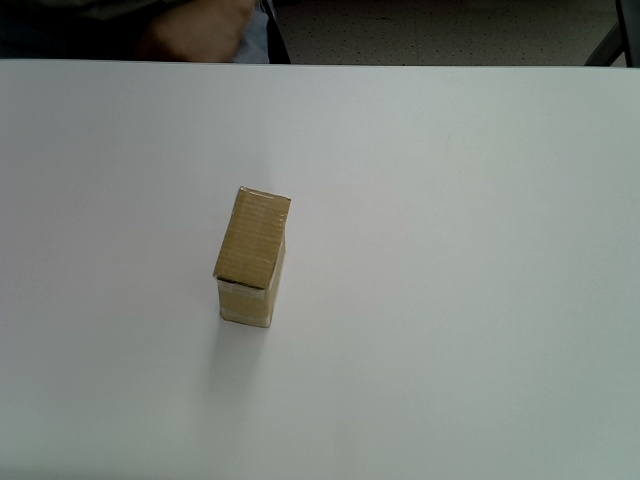normal: (212, 185, 292, 330)
